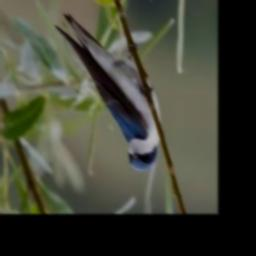Swallow: (55, 13, 161, 172)
